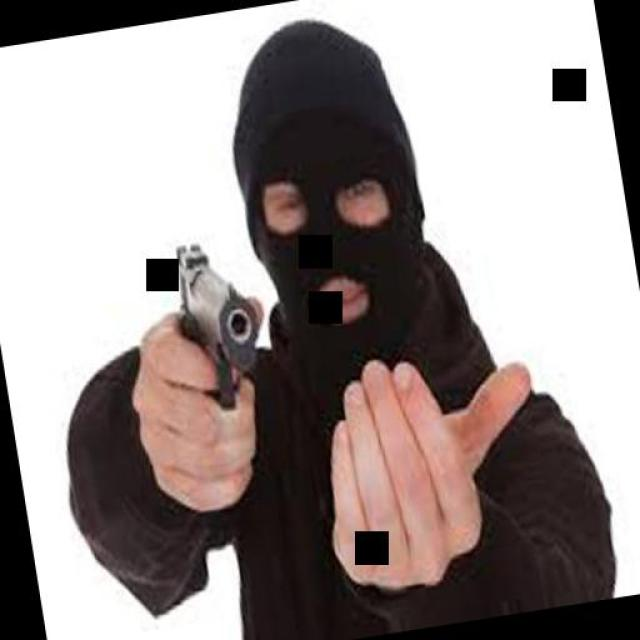gun: (155, 220, 267, 419)
